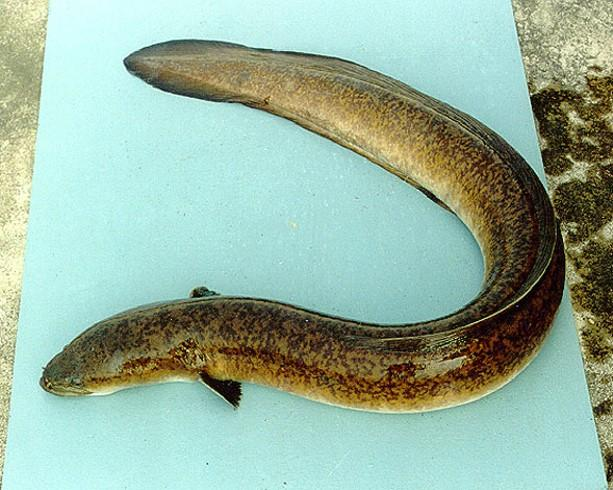Freshwater Eel: (39, 38, 566, 421)
